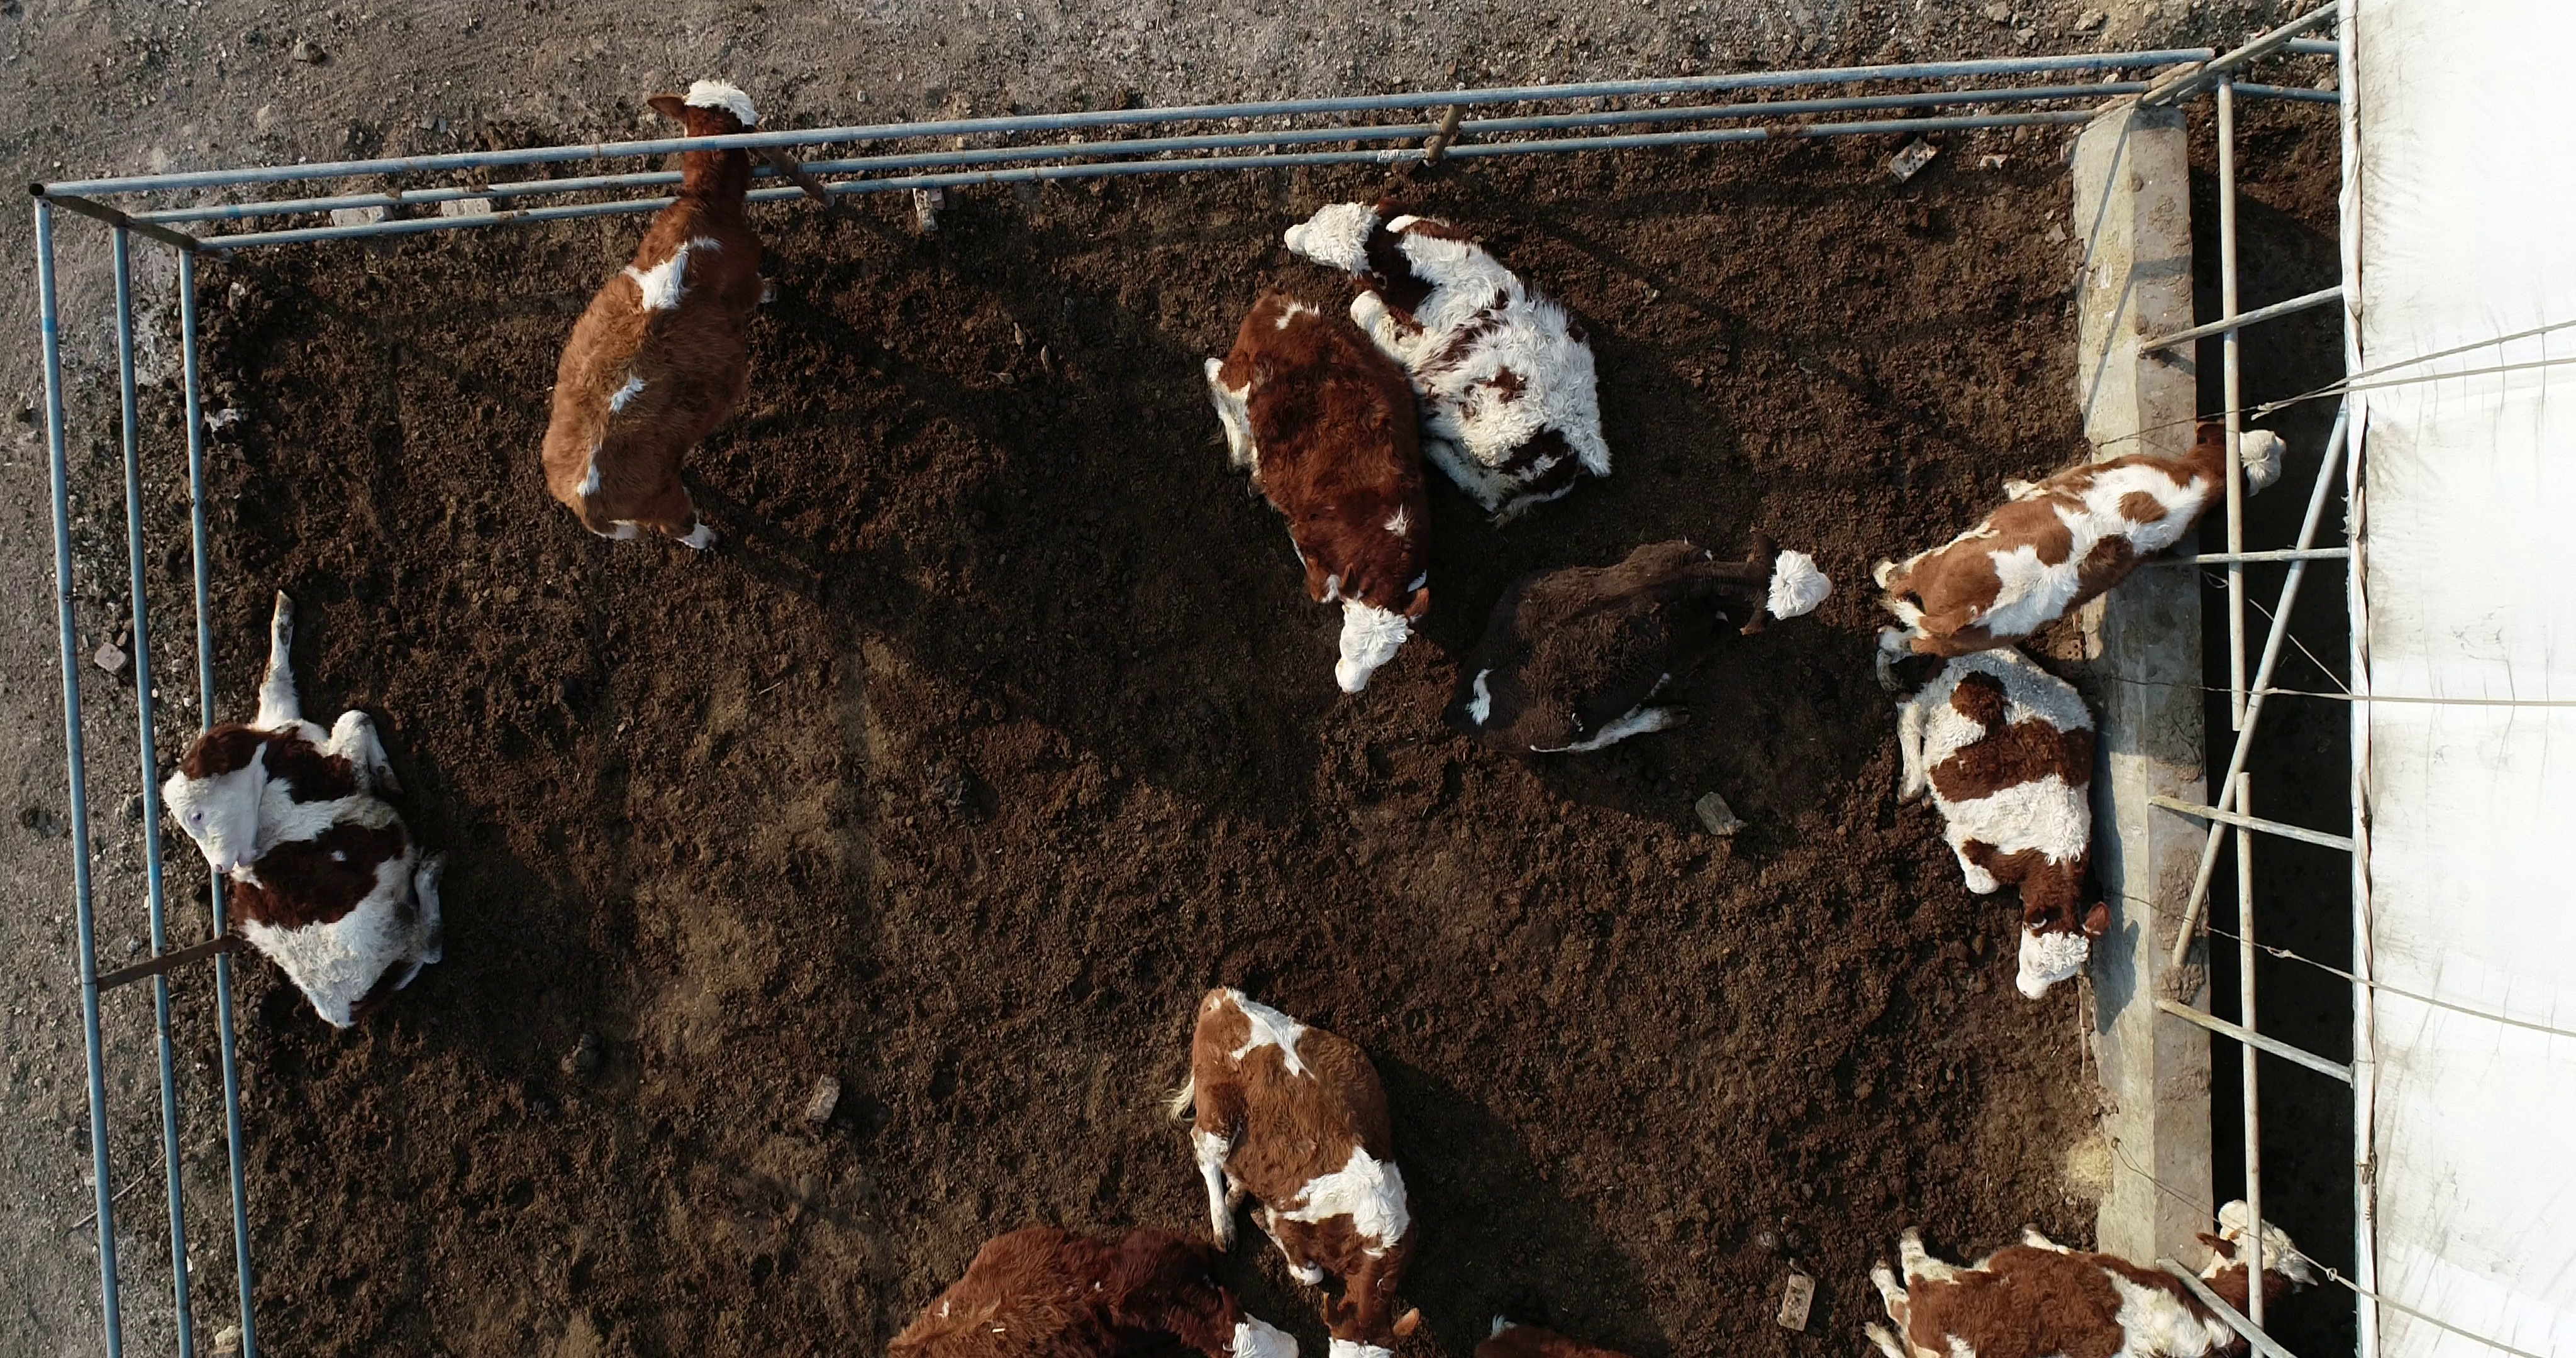cattle: (533, 72, 792, 559), (1860, 419, 2293, 702), (1436, 530, 1840, 762)
